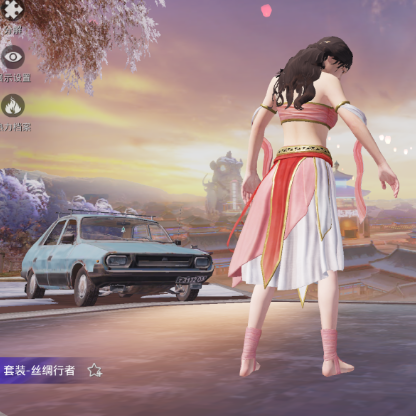ren: (229, 35, 362, 374)
tou: (312, 35, 353, 81)
